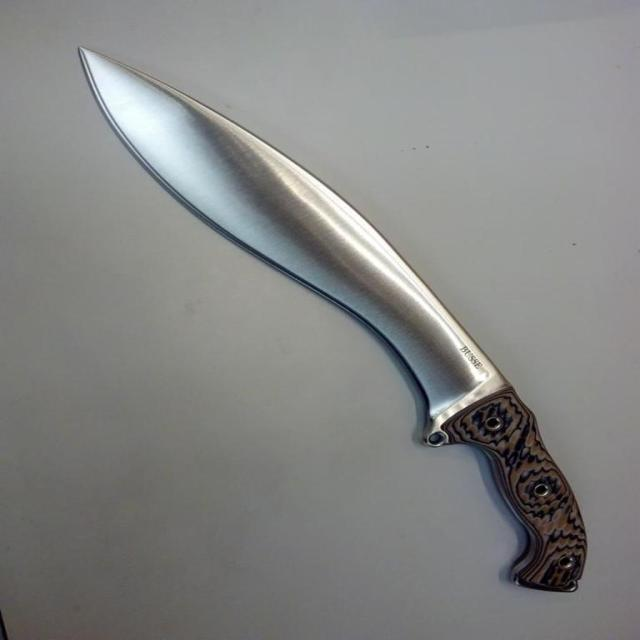Knife: (81, 49, 586, 591)
